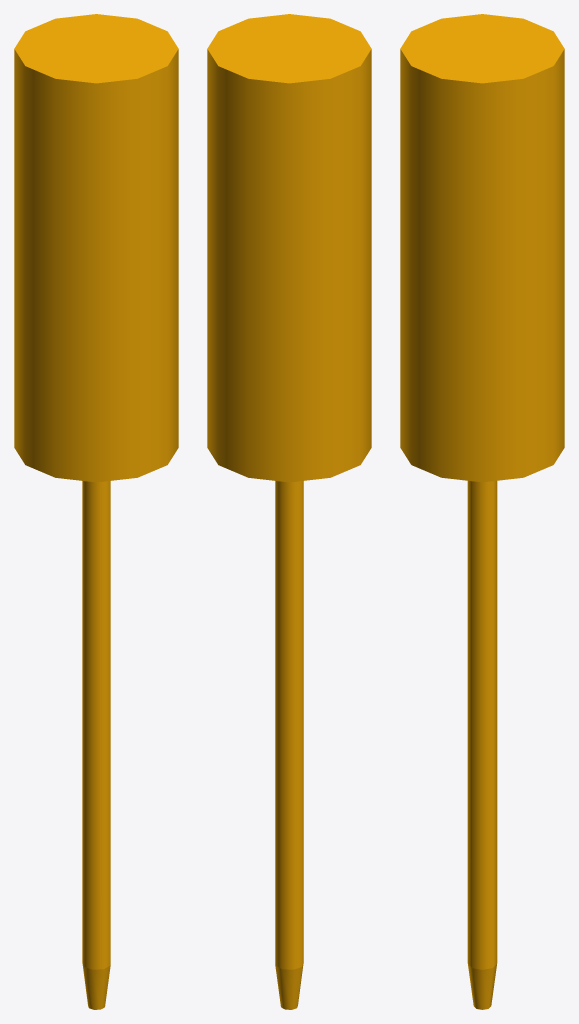
The model's file is screwdriver.glb.
3 renders of one model, left to right at view 1: azimuth 30°, elevation 25°; view 2: azimuth 150°, elevation 25°; view 3: azimuth 270°, elevation 25°, orthographic.
Parts seen in each view (by area): view 1: screwdriver; view 2: screwdriver; view 3: screwdriver.
Boxes of the visible parts, <box> form: screwdriver: <box>14,14,178,1009</box>; screwdriver: <box>207,14,371,1009</box>; screwdriver: <box>400,14,564,1009</box>.
Bounding box in the file's own units: 0.028 × 0.18 × 0.028.
